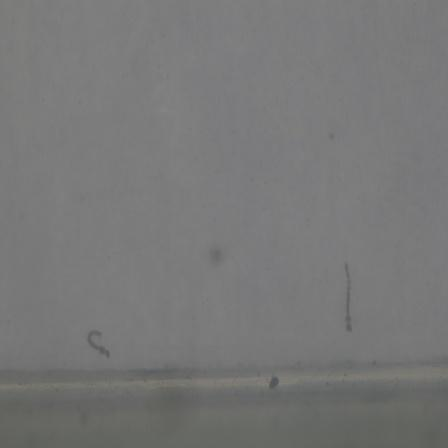Jentik-Nyamuk: (336, 260, 359, 337), (86, 328, 117, 363)
